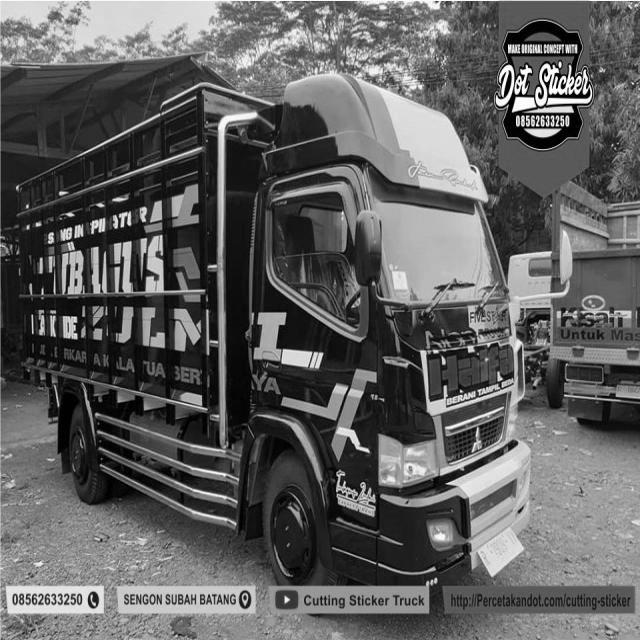truck: (215, 68, 569, 590)
